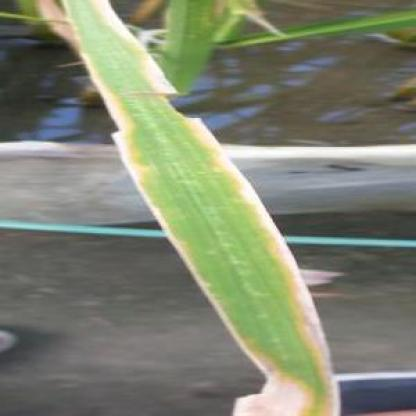Blight: (58, 1, 346, 416)
